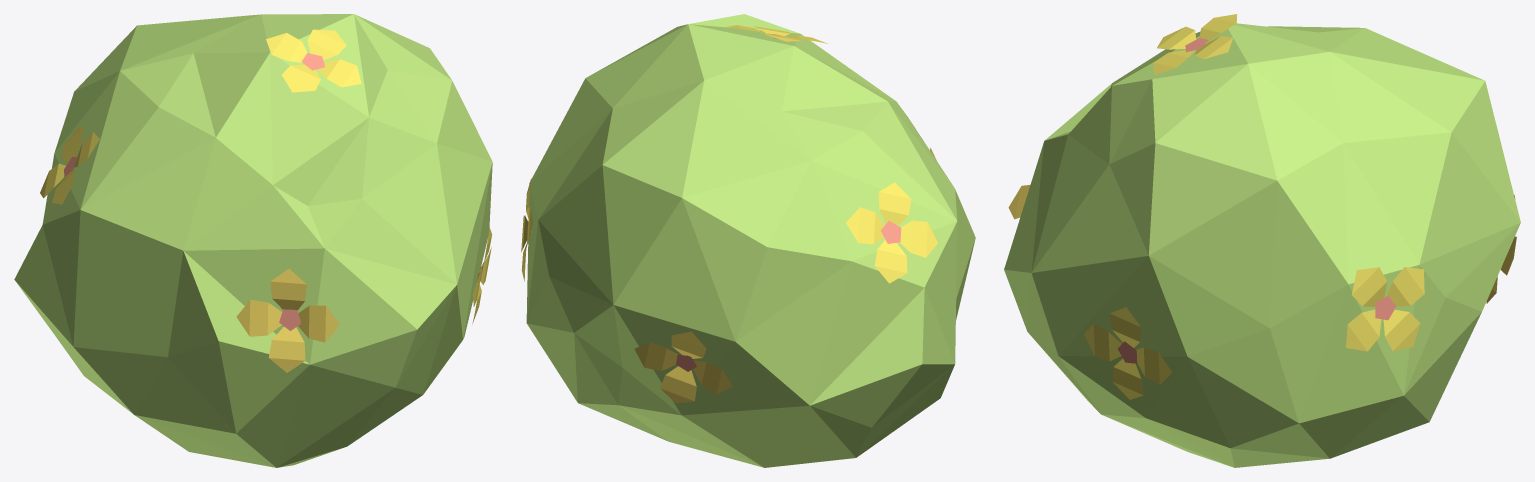
File: FlowerBush_b_m_02.fbx
The picture shows the model from 3 angles, left to right: view 1: azimuth 30°, elevation 25°; view 2: azimuth 150°, elevation 25°; view 3: azimuth 270°, elevation 25°; orthographic projection. The views are drawn at different scales.
Visible parts, largest first — view 1: FlowerBush_b_m_02_LOD0; view 2: FlowerBush_b_m_02_LOD0; view 3: FlowerBush_b_m_02_LOD0.
Part boxes in pixels (<box>): FlowerBush_b_m_02_LOD0: <box>14,14,492,467</box>; FlowerBush_b_m_02_LOD0: <box>521,14,975,467</box>; FlowerBush_b_m_02_LOD0: <box>1004,14,1520,467</box>.
Size of what is drawn, in the model's own units: 171 by 163 by 175.
